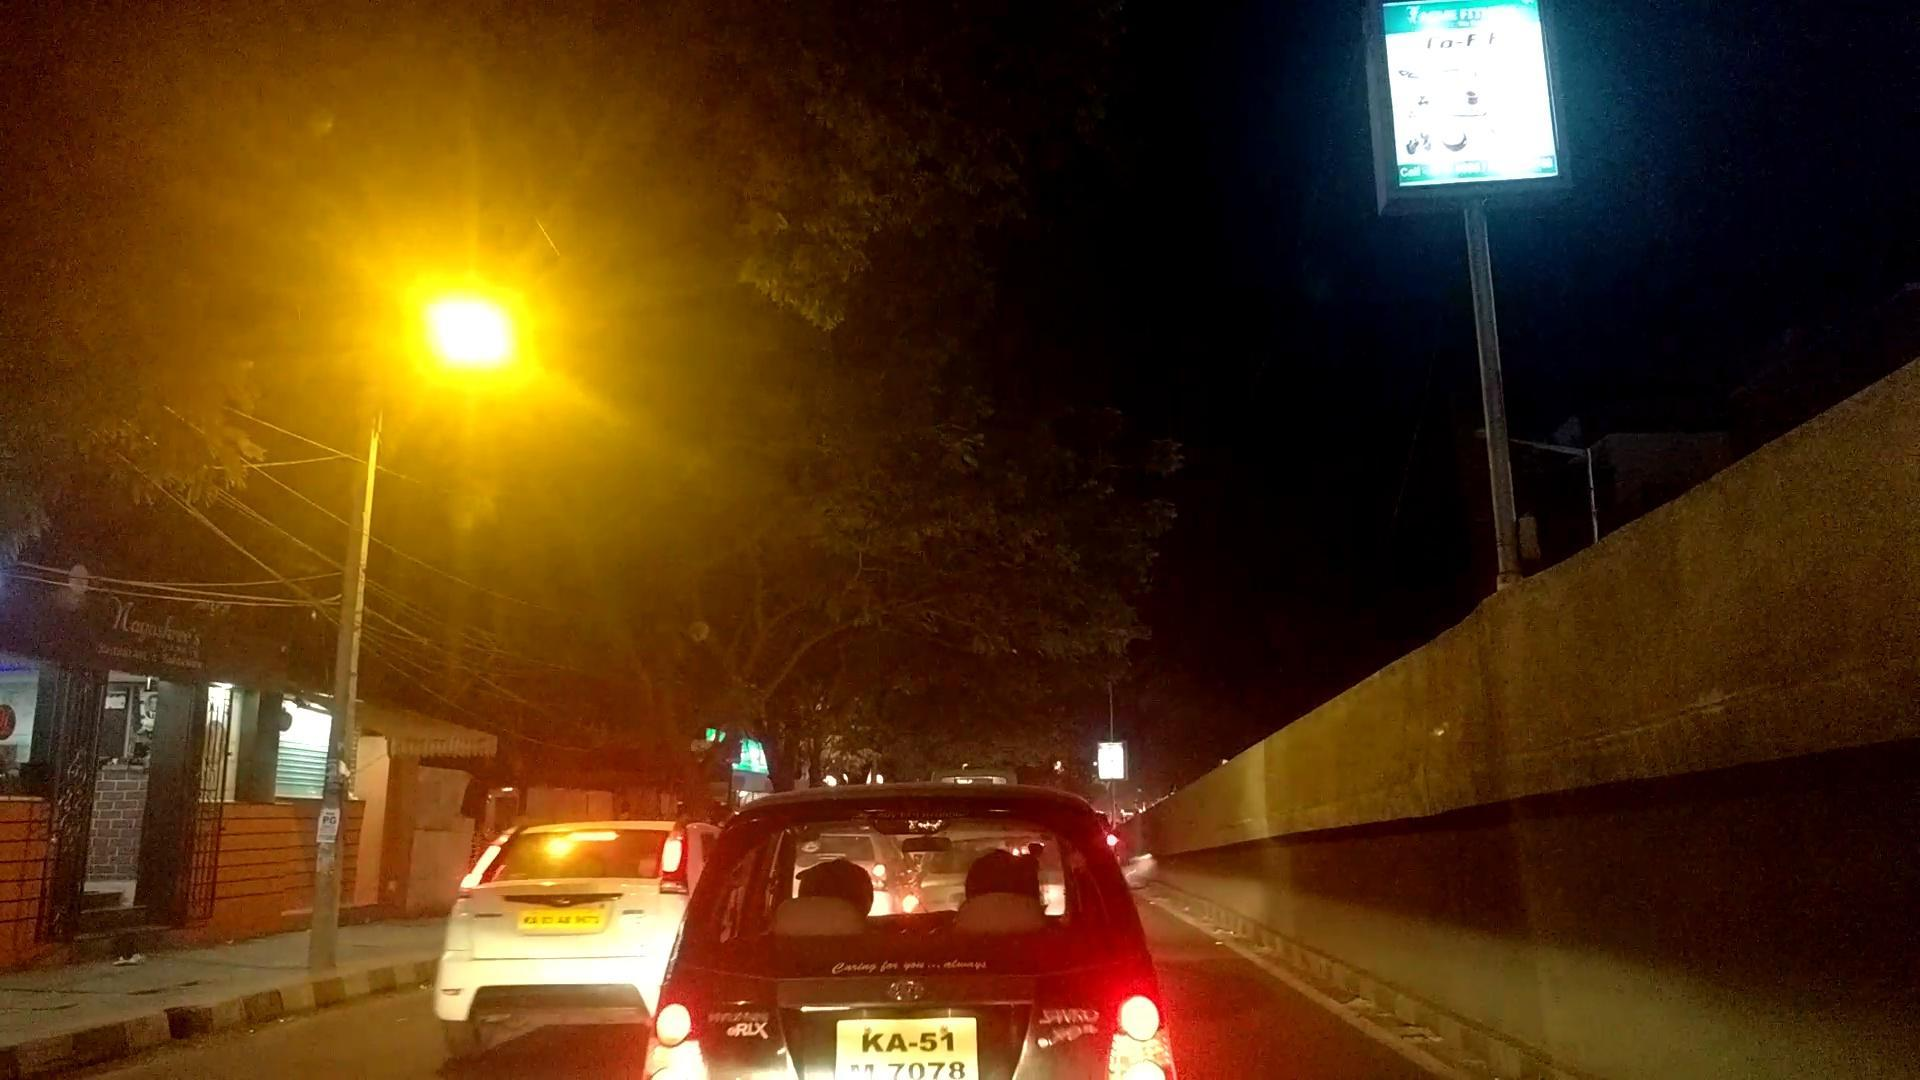on: (109, 112, 855, 539)
